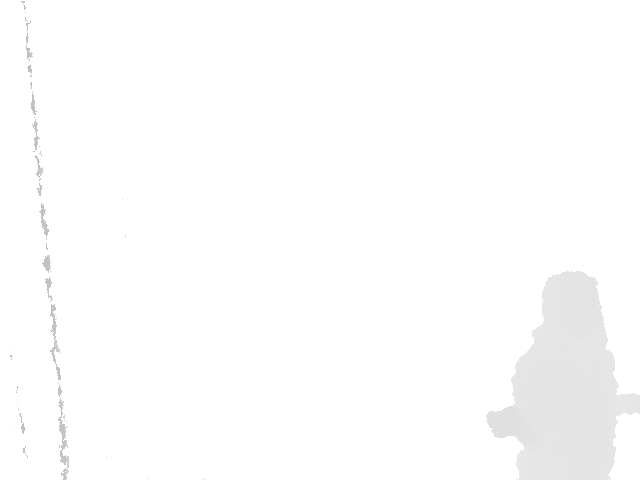head: (543, 271, 605, 341)
person: (487, 272, 640, 480)
